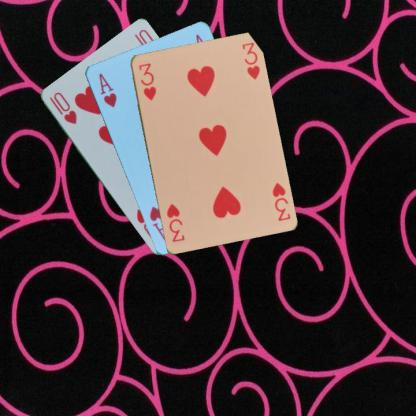10h: (46, 89, 78, 126)
3h: (269, 180, 291, 223), (136, 60, 157, 102)
Ah: (96, 70, 118, 108)
